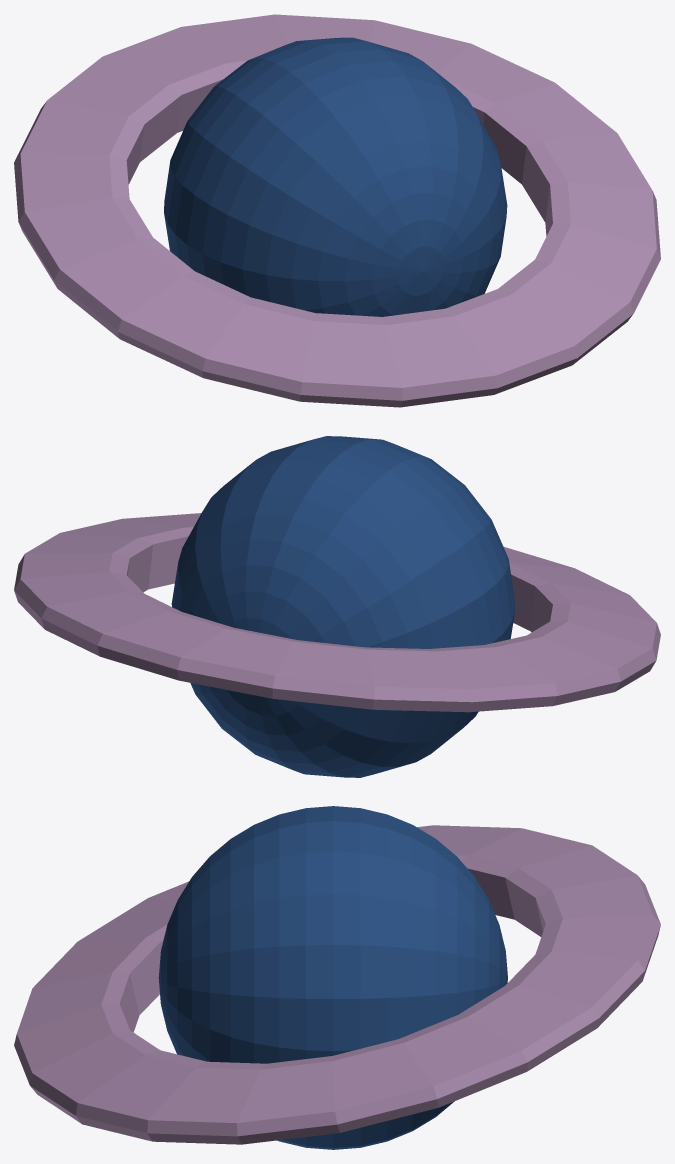
File: Isl_19_Planet_2.fbx
3 renders of one model, top to bottom at view 1: azimuth 30°, elevation 25°; view 2: azimuth 150°, elevation 25°; view 3: azimuth 270°, elevation 25°, orthographic.
Parts seen in each view (by area): view 1: Isl_19_Planet_2; view 2: Isl_19_Planet_2; view 3: Isl_19_Planet_2.
Part boxes in pixels (bbox=[...]): Isl_19_Planet_2: bbox=[14, 14, 660, 407]; Isl_19_Planet_2: bbox=[14, 436, 660, 777]; Isl_19_Planet_2: bbox=[14, 806, 660, 1149].
Bounding box in the file's own units: 851 × 833 × 446.
1 material, 1 textured.
